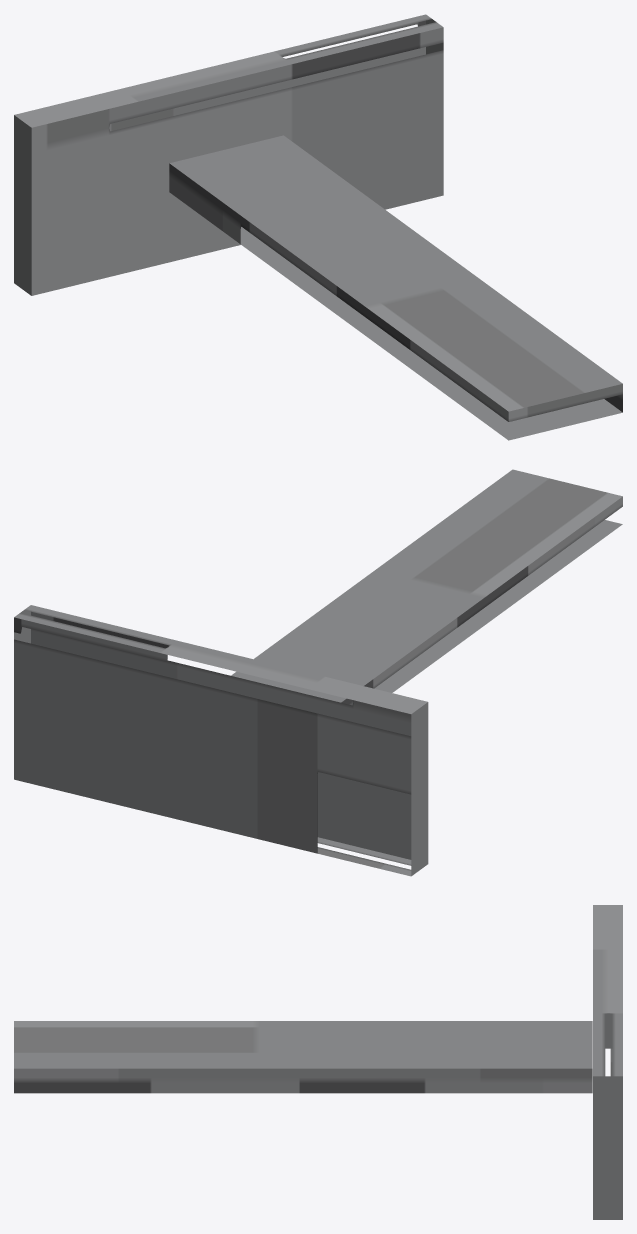
3 views of the same model, one above another, from view 1: azimuth 30°, elevation 25°; view 2: azimuth 150°, elevation 25°; view 3: azimuth 270°, elevation 25° (orthographic). The views are drawn at different scales.
Size of the model in its own units: 0.8236 by 0.3214 by 1.24.
